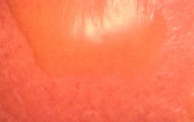SJS-TEN: (7, 0, 168, 77)
